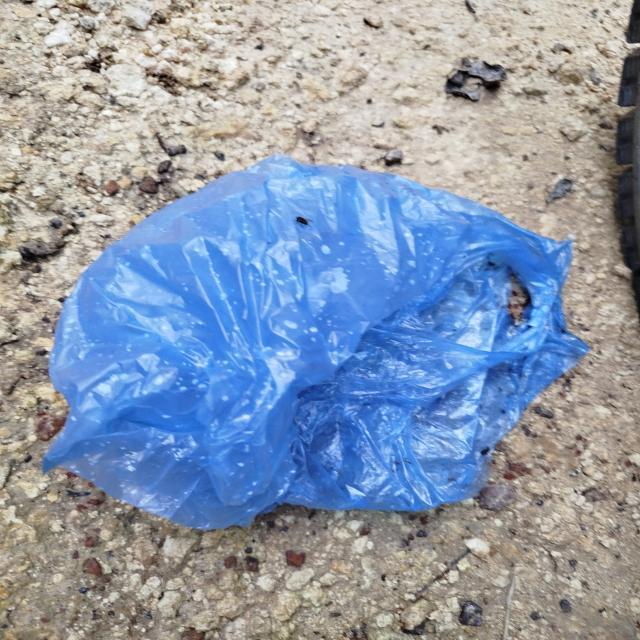residual: (30, 133, 596, 559)
